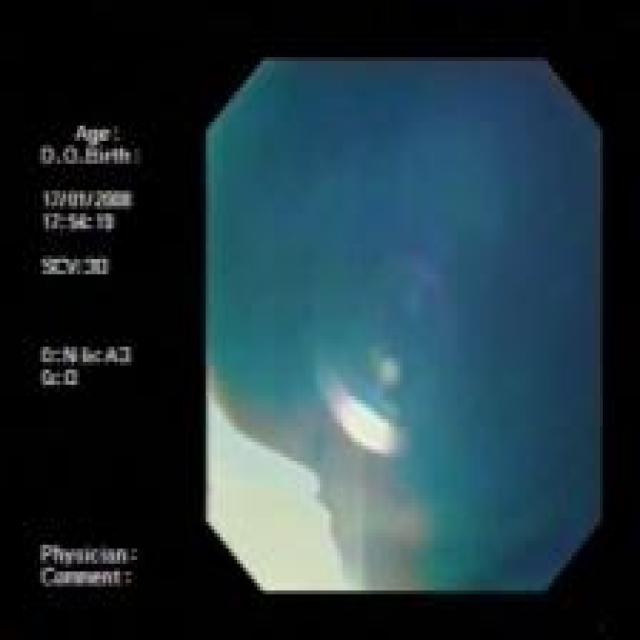color misalignment: (205, 61, 602, 592), (37, 111, 158, 594)
specularity: (338, 392, 384, 448)
